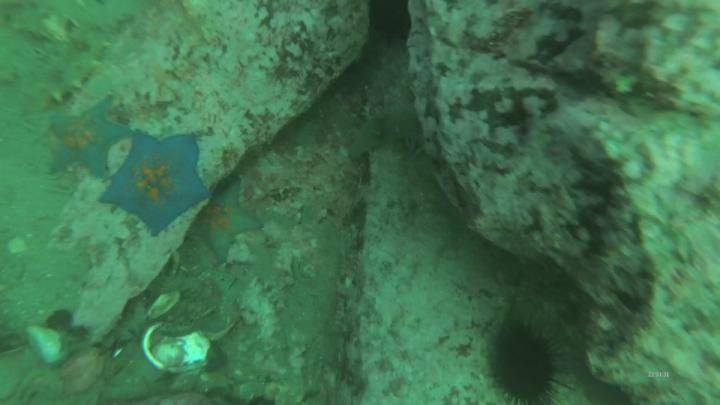echinus: (490, 320, 562, 404)
holothurian: (42, 36, 112, 102), (350, 116, 423, 157)
starfish: (99, 134, 209, 237), (41, 105, 129, 179), (202, 178, 265, 258)
